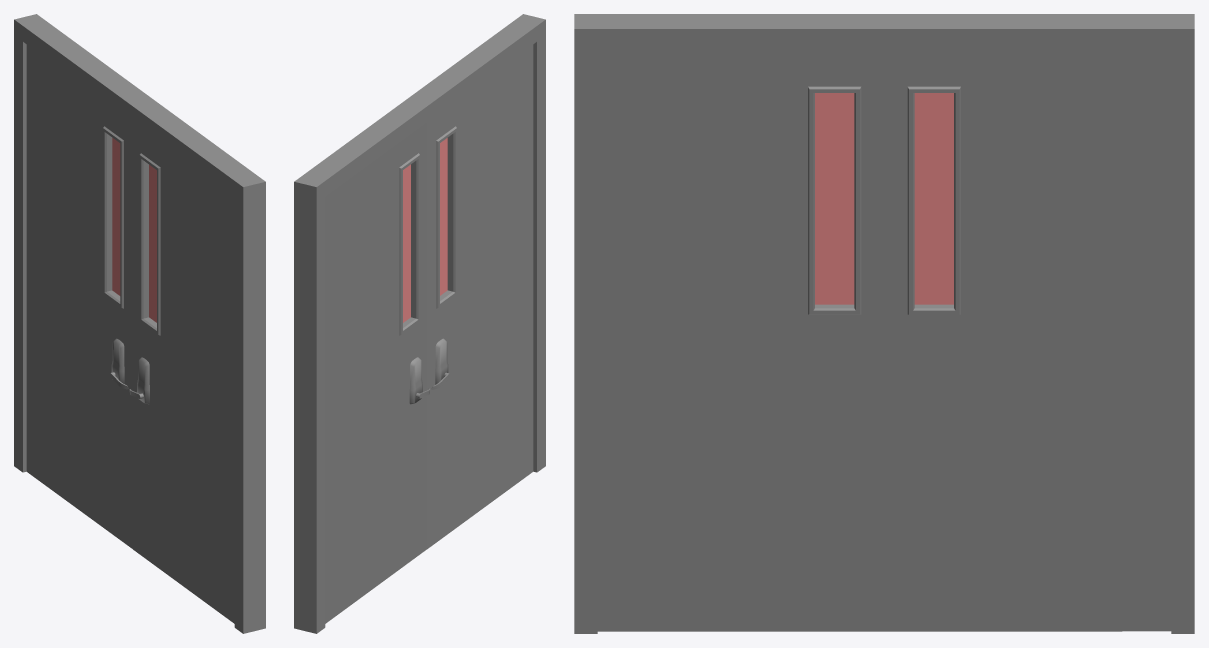
The model's file is sm_doorsclosed_01.FBX.
3 renders of one model, left to right at view 1: azimuth 30°, elevation 25°; view 2: azimuth 150°, elevation 25°; view 3: azimuth 270°, elevation 25°, orthographic. The views are drawn at different scales.
Parts seen in each view (by area): view 1: doorclosed_LOD0; view 2: doorclosed_LOD0; view 3: doorclosed_LOD0.
Boxes of the visible parts, box(x1,y1,x2,y2) form: doorclosed_LOD0: box(14, 14, 265, 633); doorclosed_LOD0: box(294, 14, 545, 633); doorclosed_LOD0: box(574, 14, 1194, 633).
Bounding box in the file's own units: 17.57 × 284 × 264.
